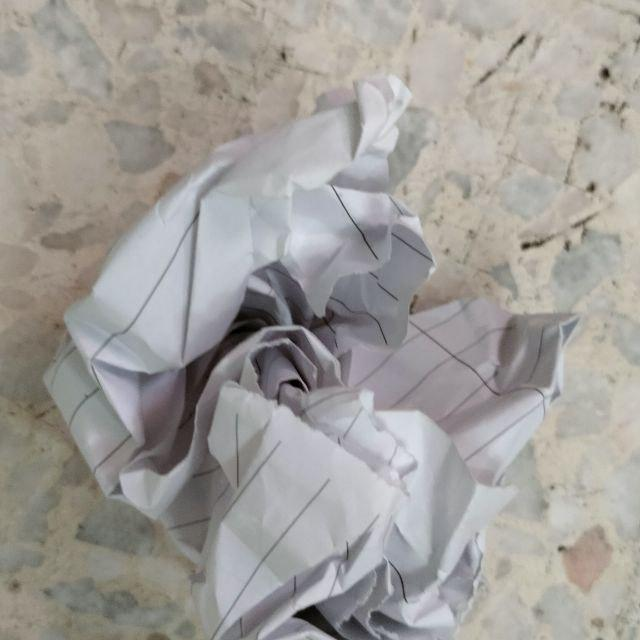paper: (7, 20, 602, 640)
